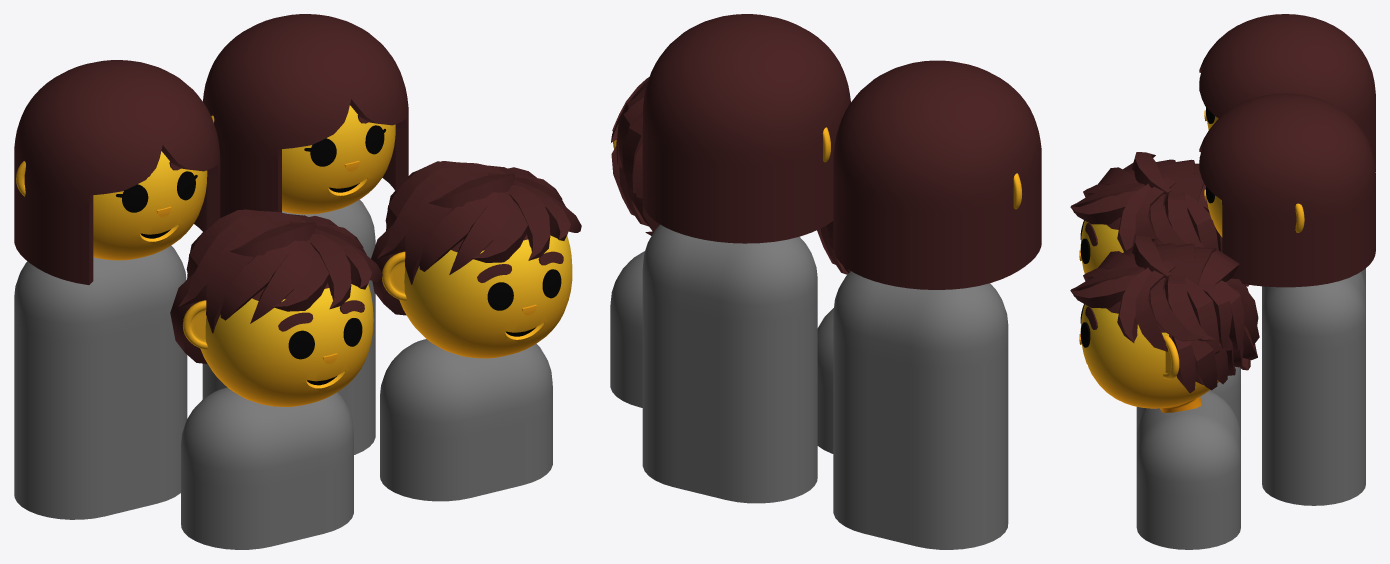
Rendered from family_woman_woman_boy_boy.fbx.
3 renders of one model, left to right at view 1: azimuth 30°, elevation 25°; view 2: azimuth 150°, elevation 25°; view 3: azimuth 270°, elevation 25°, orthographic. The views are drawn at different scales.
Parts seen in each view (by area): view 1: Sphere.317, Roundcube.386, Roundcube.385, Sphere.324, Sphere.323, Cube.5164, Cube.5195, Roundcube.393, Roundcube.394, Roundcube.383, Roundcube.384, Sphere.318 (+7 smaller); view 2: Sphere.318, Sphere.317, Roundcube.386, Roundcube.385, Sphere.324, Cube.5195, Sphere.323, Cube.5164; view 3: Roundcube.385, Sphere.318, Cube.5195, Sphere.324, Roundcube.386, Cube.5164, Roundcube.394, Roundcube.393, Sphere.323, Cylinder.270, Roundcube.384.
Boxes of the visible parts, x1,y1,x2,y2 form: Sphere.317: [14, 245, 187, 519]; Roundcube.386: [14, 60, 220, 284]; Roundcube.385: [203, 14, 408, 217]; Sphere.324: [380, 339, 552, 501]; Sphere.323: [181, 387, 353, 549]; Cube.5164: [170, 209, 382, 363]; Cube.5195: [371, 161, 581, 315]; Roundcube.393: [200, 283, 373, 406]; Roundcube.394: [399, 234, 572, 358]; Roundcube.383: [93, 151, 207, 260]; Roundcube.384: [282, 105, 395, 214]; Sphere.318: [202, 199, 375, 454]; Sphere.318: [642, 224, 817, 503]; Sphere.317: [833, 271, 1008, 549]; Roundcube.386: [833, 60, 1041, 289]; Roundcube.385: [642, 14, 850, 243]; Sphere.324: [610, 251, 644, 407]; Cube.5195: [611, 77, 659, 235]; Sphere.323: [817, 308, 833, 453]; Cube.5164: [817, 221, 850, 274]; Roundcube.385: [1199, 93, 1375, 287]; Sphere.318: [1262, 271, 1365, 505]; Cube.5195: [1070, 235, 1259, 392]; Sphere.324: [1136, 390, 1240, 549]; Roundcube.386: [1199, 14, 1375, 171]; Cube.5164: [1070, 152, 1248, 286]; Roundcube.394: [1080, 288, 1218, 412]; Roundcube.393: [1080, 204, 1165, 273]; Sphere.323: [1136, 367, 1240, 437]; Cylinder.270: [1163, 336, 1179, 379]; Roundcube.384: [1206, 195, 1222, 237].
Bounding box in the file's own units: 251 × 216 × 162.
Materials: 1 (1 with a texture image).
